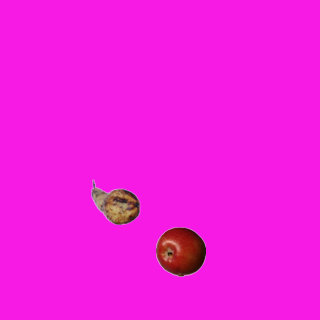Apple Braeburn: (155, 226, 205, 276)
Pear Abate: (90, 177, 140, 227)
